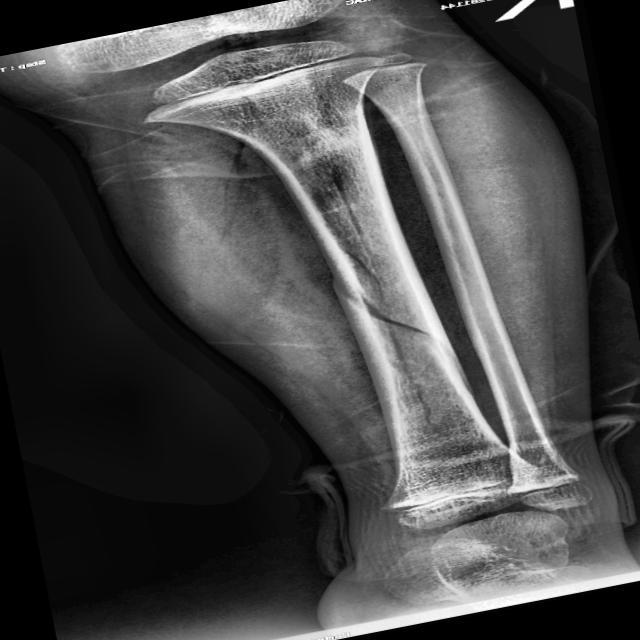Fracture: (318, 270, 460, 379)
